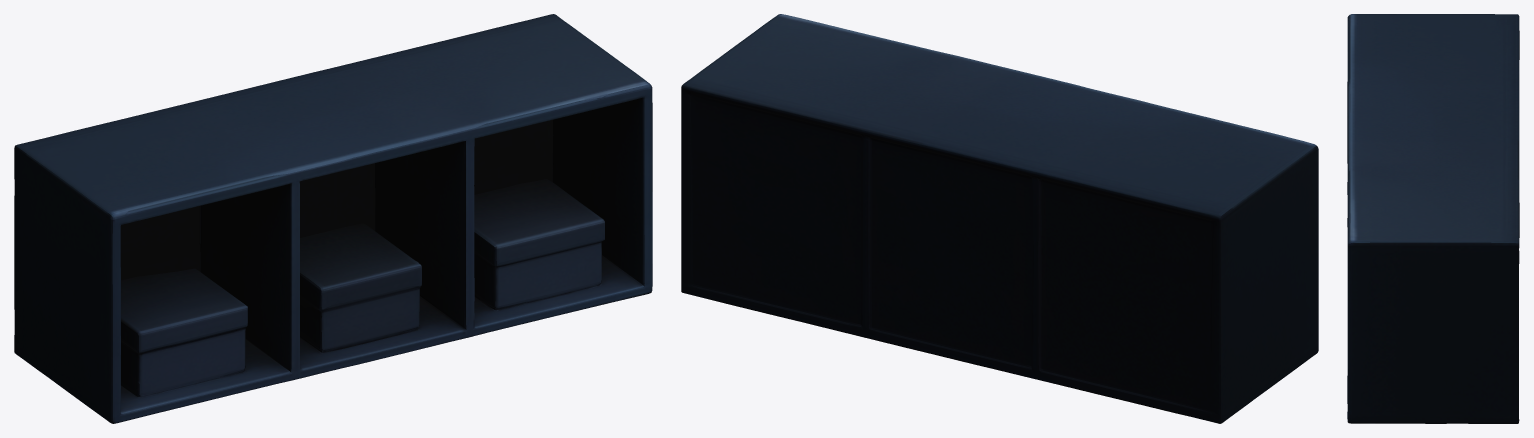
The model's file is deposito-3d-2.glb.
3 renders of one model, left to right at view 1: azimuth 30°, elevation 25°; view 2: azimuth 150°, elevation 25°; view 3: azimuth 270°, elevation 25°, orthographic. The views are drawn at different scales.
Parts seen in each view (by area): view 1: world; view 2: world; view 3: world.
Part boxes in pixels (<box>): world: <box>14,14,652,423</box>; world: <box>681,14,1318,423</box>; world: <box>1347,14,1519,423</box>.
Size of the model in its own units: 1 by 0.3712 by 0.3169.
Materials: 1 (1 with a texture image).
